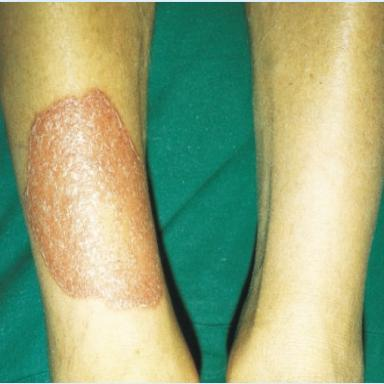Psoriasis: (24, 88, 165, 310)
